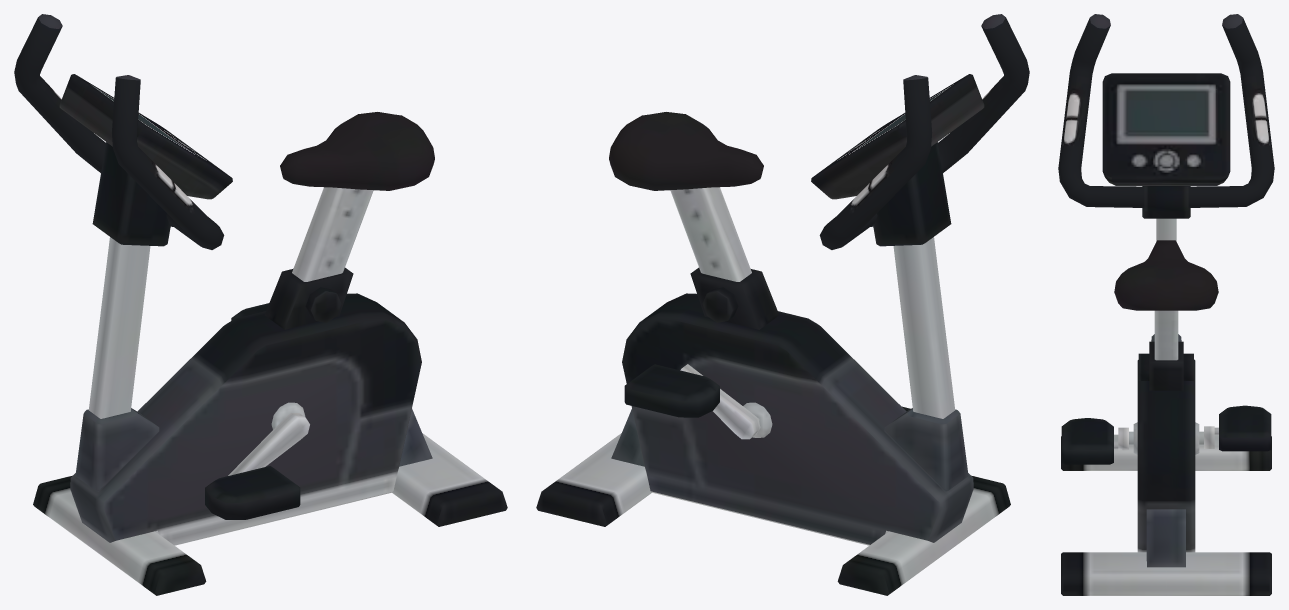
Rendered from exercise-bike.glb.
3 renders of one model, left to right at view 1: azimuth 30°, elevation 25°; view 2: azimuth 150°, elevation 25°; view 3: azimuth 270°, elevation 25°, orthographic. The views are drawn at different scales.
Size of the model in its own units: 9.64 by 12.24 by 5.57.
Materials: 1 (1 with a texture image).
